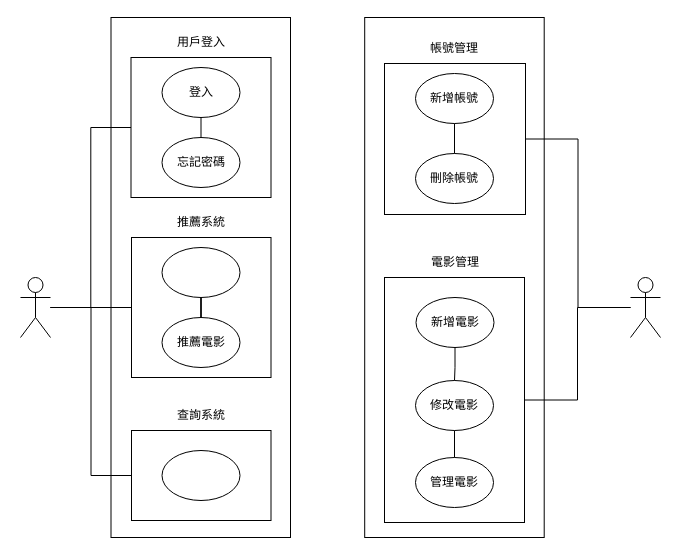
Some shapes in this 680 by 555 pixel diagram are drawn without their labels. The shapes that lost their labels are listed below. From the top down, each one's centre as x and y in pixels, then its label:
At point (200, 272): "喜好調查".
At point (35, 307): "使用者".
At point (645, 307): "管理者".
At point (200, 475): "查詢電影".
